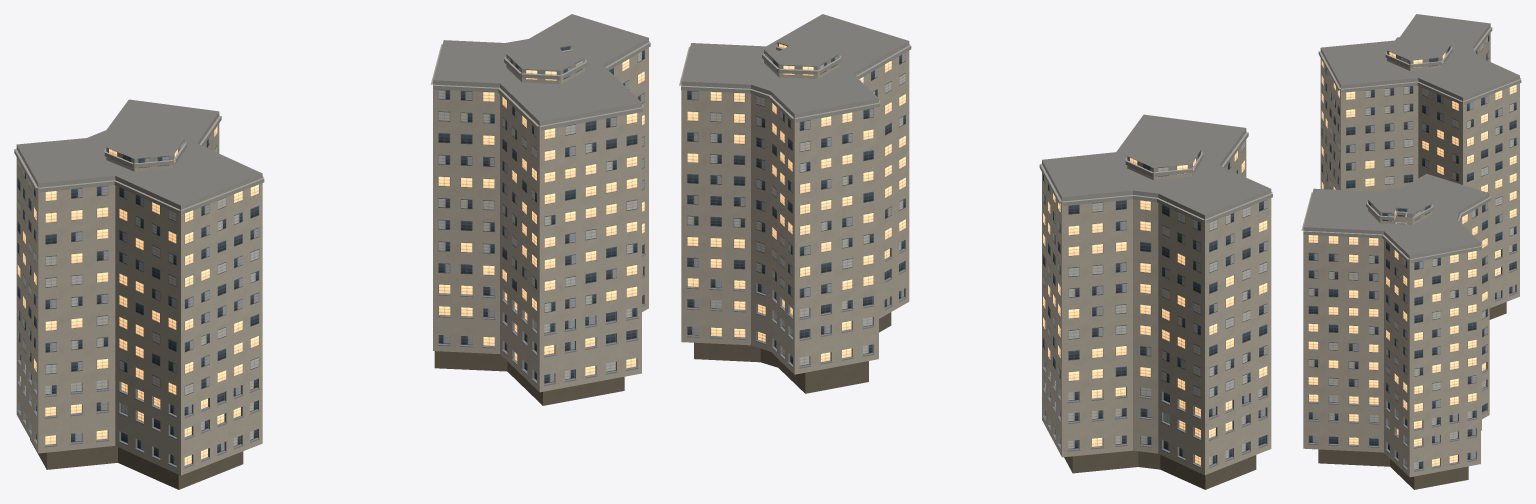
The model's file is z5c_letzi_tower.glb.
3 renders of one model, left to right at view 1: azimuth 30°, elevation 25°; view 2: azimuth 150°, elevation 25°; view 3: azimuth 270°, elevation 25°, orthographic. The views are drawn at different scales.
Visible parts, largest first — view 1: z5c_letzi_tower; view 2: z5c_letzi_tower; view 3: z5c_letzi_tower.
Part boxes in pixels (x1=…): z5c_letzi_tower: x1=14, y1=14, x2=650, y2=489; z5c_letzi_tower: x1=679, y1=14, x2=1272, y2=489; z5c_letzi_tower: x1=1301, y1=14, x2=1521, y2=489.
Bounding box in the file's own units: 87.34 × 41.84 × 33.32.
Materials: 3 (3 with a texture image).
